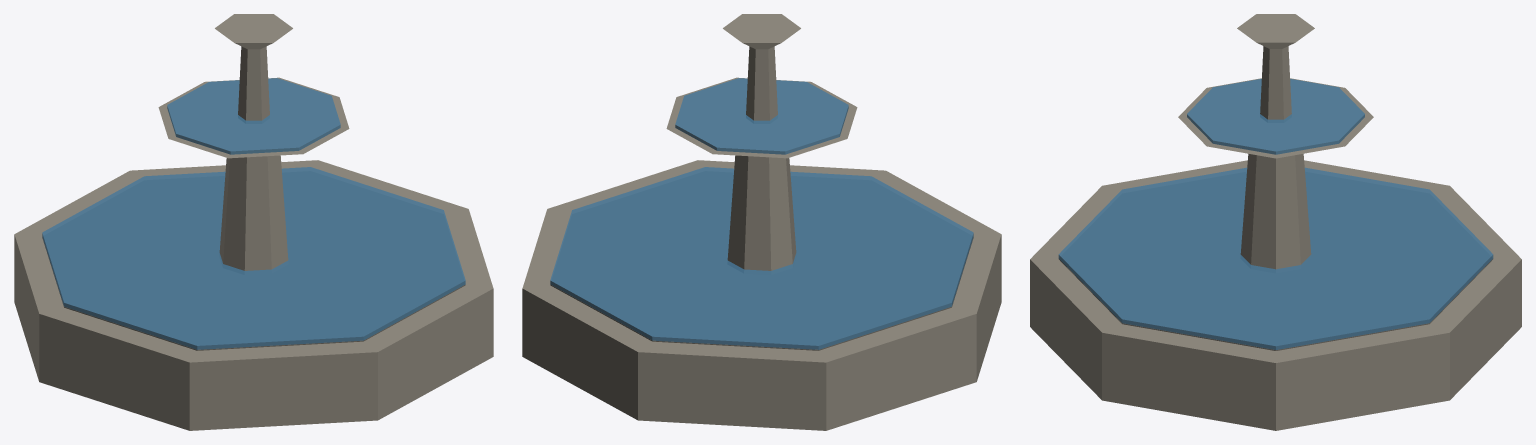
File: pra-fonte.gltf
The picture shows the model from 3 angles, left to right: view 1: azimuth 30°, elevation 25°; view 2: azimuth 150°, elevation 25°; view 3: azimuth 270°, elevation 25°; orthographic projection.
Visible parts, largest first — view 1: pra-fonte; view 2: pra-fonte; view 3: pra-fonte.
Boxes of the visible parts, x1,y1,x2,y2 form: pra-fonte: (14, 14, 493, 430); pra-fonte: (522, 14, 1001, 430); pra-fonte: (1030, 14, 1521, 430).
Bounding box in the file's own units: 2.76 × 1.85 × 2.76.
